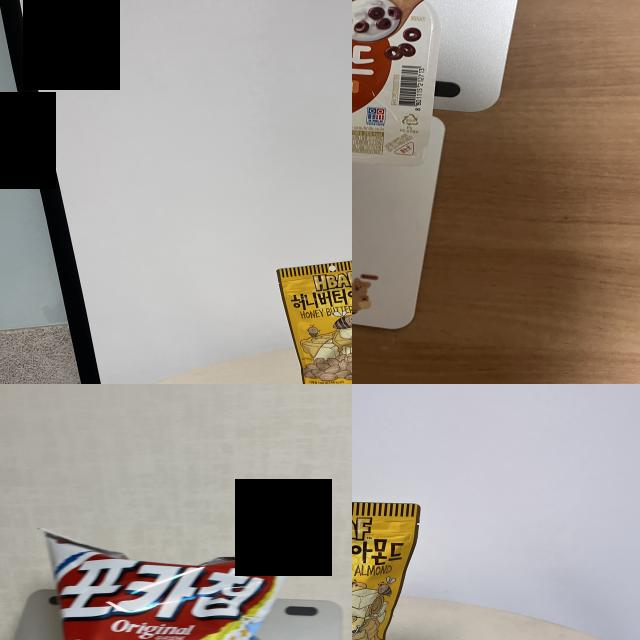bYott: (352, 0, 435, 162)
honeyAmond: (352, 496, 427, 640), (272, 255, 352, 384)
pokaChip: (54, 545, 263, 640)
